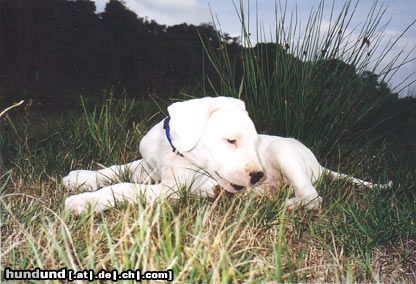dogo_argentino: (60, 95, 394, 217)
